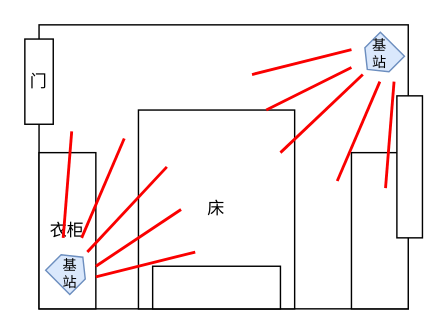
The diagram is 447 pixels wide and 334 high, and some of its shapes have lost their labels. Each missing label, with the centre of its shape:
"枕头" goes at point (215, 287).
"电 脑 桌" goes at point (379, 230).
"窗户" goes at point (408, 166).
